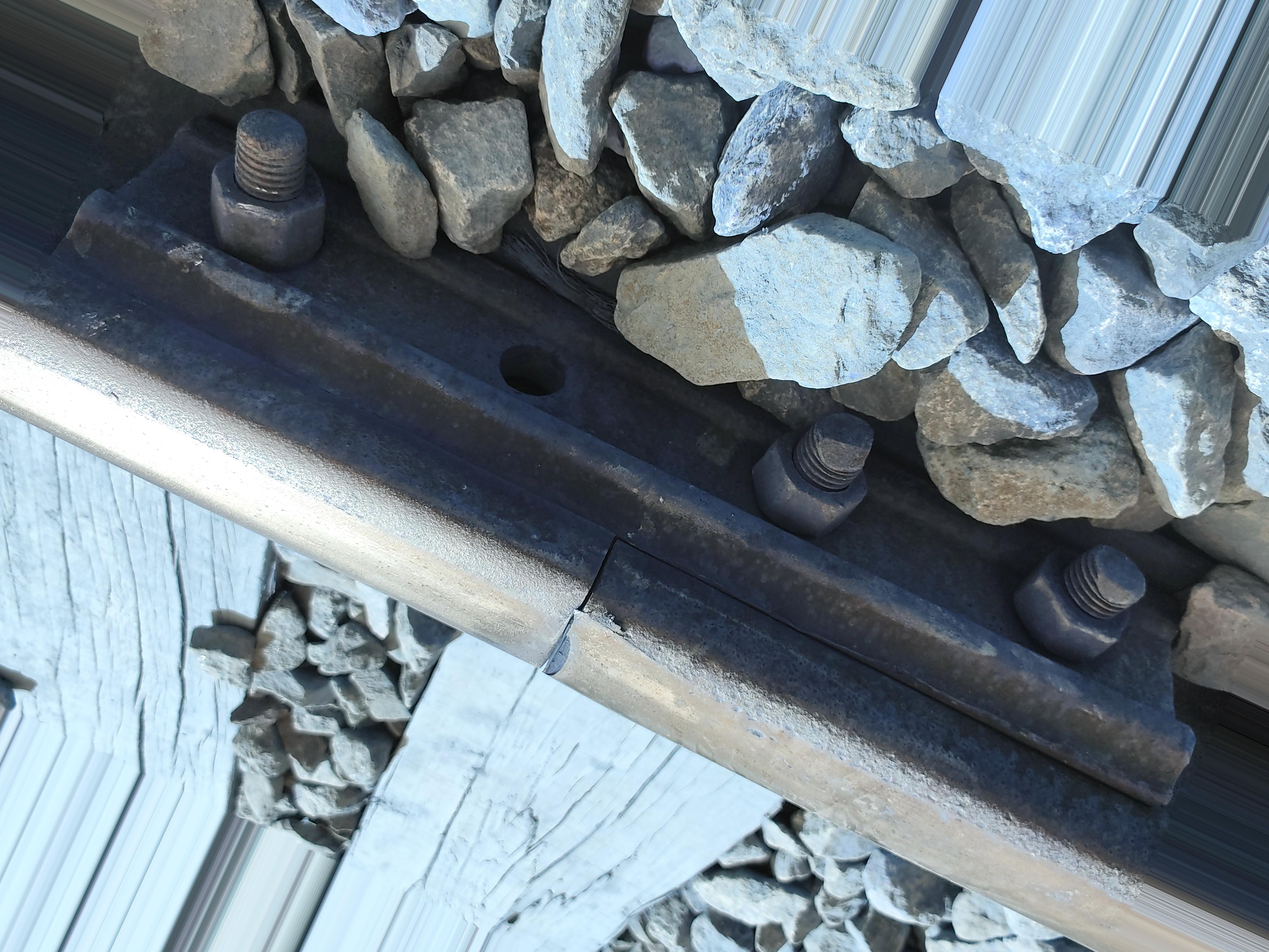tracks_fault: (457, 292, 643, 482)
